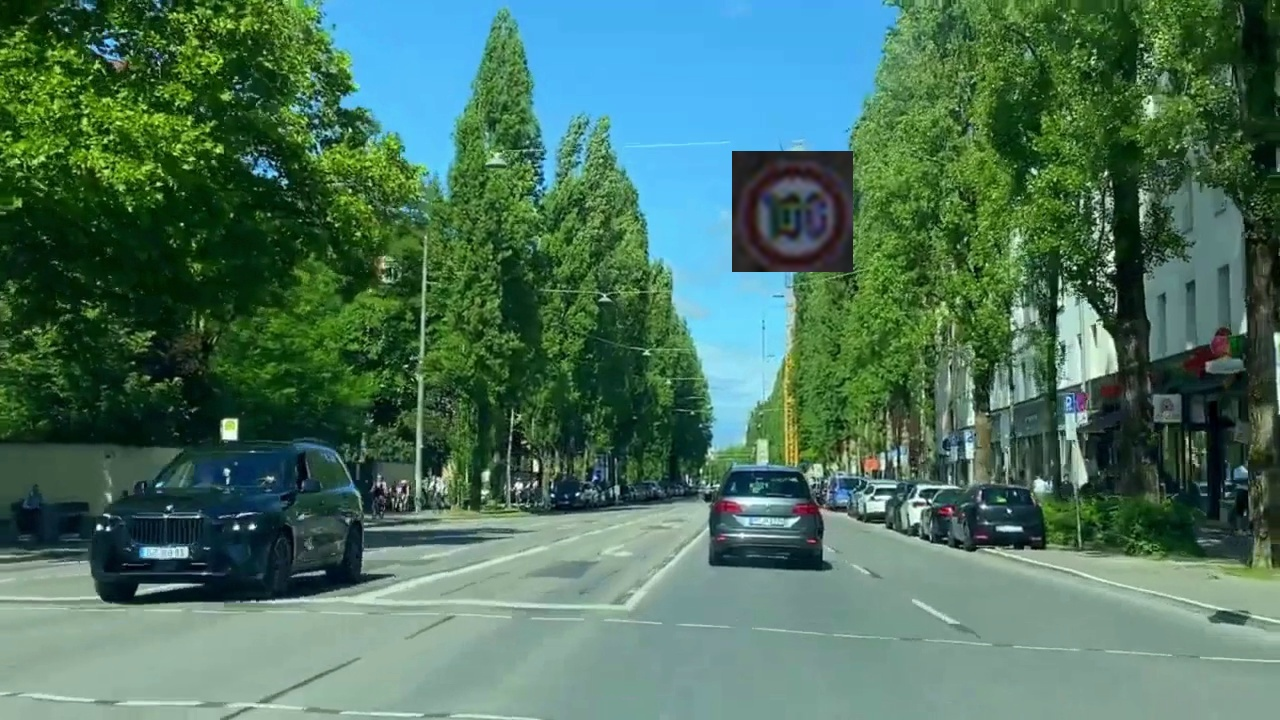Speed 100: (732, 151, 853, 272)
